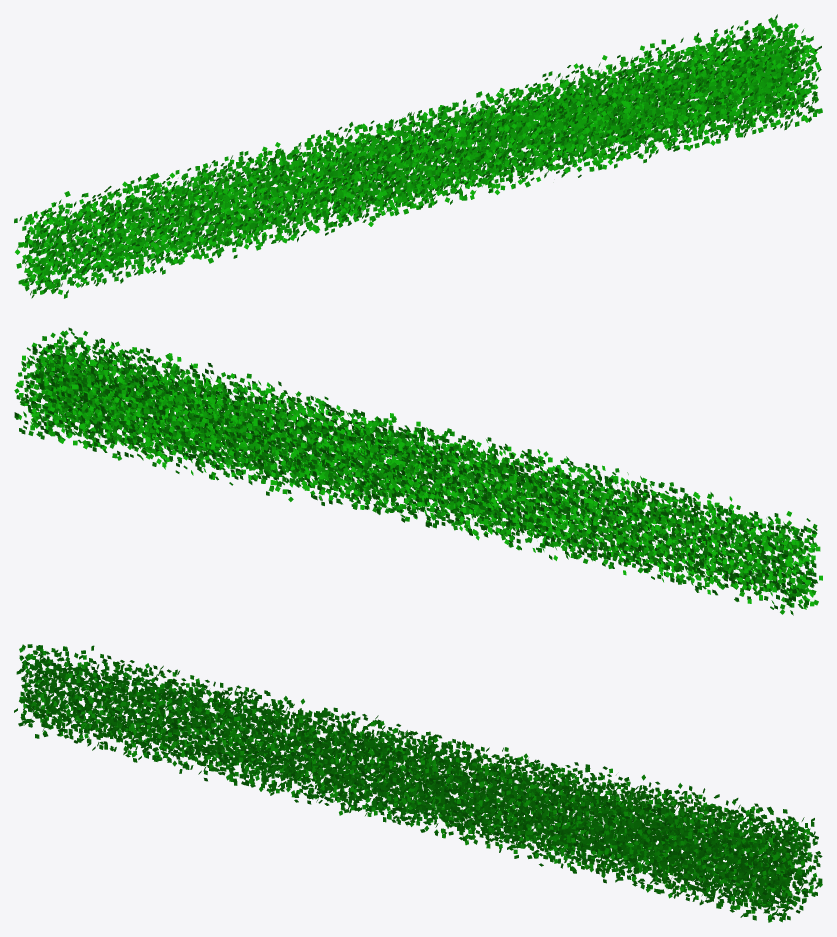
The model's file is vine_tapered_2m_1m.dae.
3 views of the same model, one above another, from view 1: azimuth 30°, elevation 25°; view 2: azimuth 150°, elevation 25°; view 3: azimuth 330°, elevation 25° (orthographic).
Parts seen in each view (by area): view 1: tapered_canopy; view 2: tapered_canopy; view 3: tapered_canopy.
Boxes of the visible parts, bbox=[...] form: tapered_canopy: bbox=[14, 14, 822, 298]; tapered_canopy: bbox=[14, 327, 822, 615]; tapered_canopy: bbox=[14, 644, 822, 922].
Size of the model in its own units: 20 by 2.03 by 2.02.
